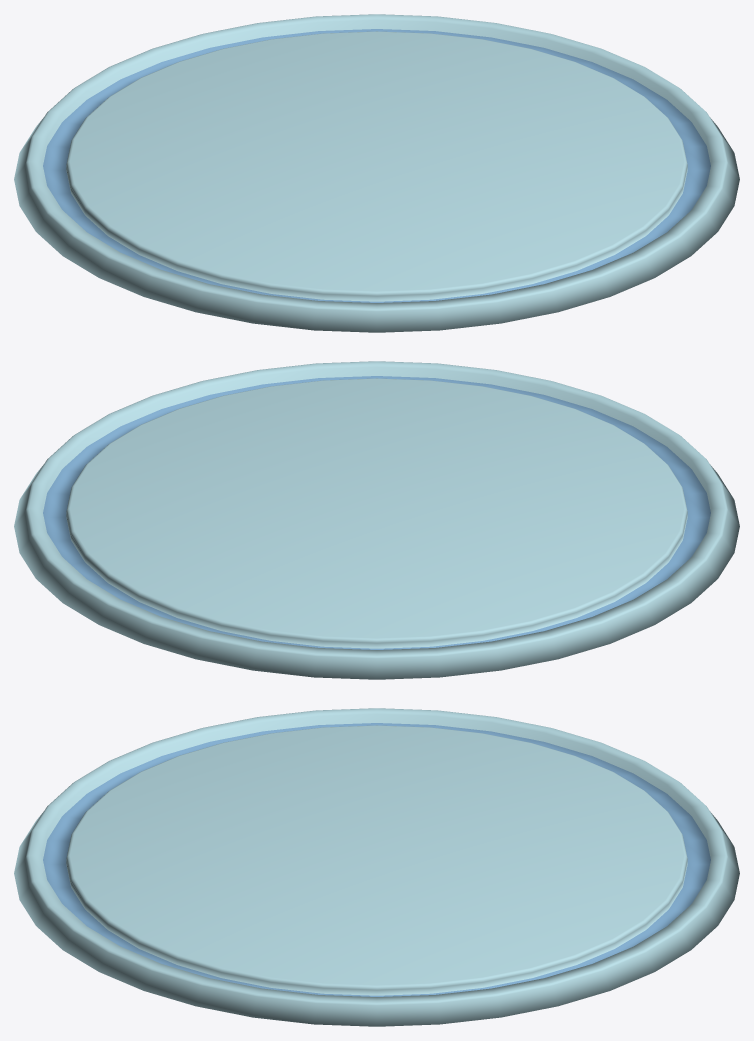
The model's file is Podloga za karaktera.fbx.
3 renders of one model, top to bottom at view 1: azimuth 30°, elevation 25°; view 2: azimuth 150°, elevation 25°; view 3: azimuth 270°, elevation 25°, orthographic.
Visible parts, largest first — view 1: Cylinder; view 2: Cylinder; view 3: Cylinder.
Part boxes in pixels (<box>): Cylinder: <box>14,14,739,332</box>; Cylinder: <box>14,361,739,679</box>; Cylinder: <box>14,708,739,1026</box>.
Size of the model in its own units: 132 by 3.58 by 132.
